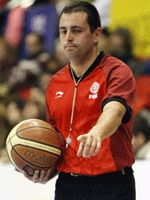basketball: (6, 118, 63, 177)
